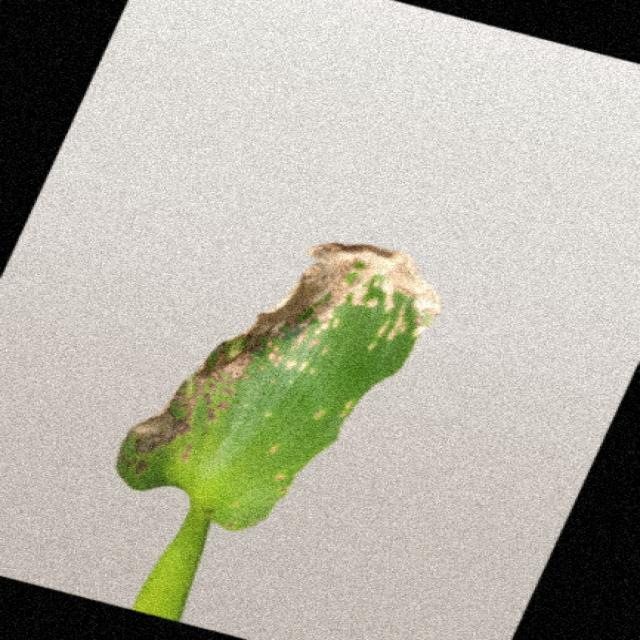daun berpenyakit bercak: (117, 244, 440, 620)
